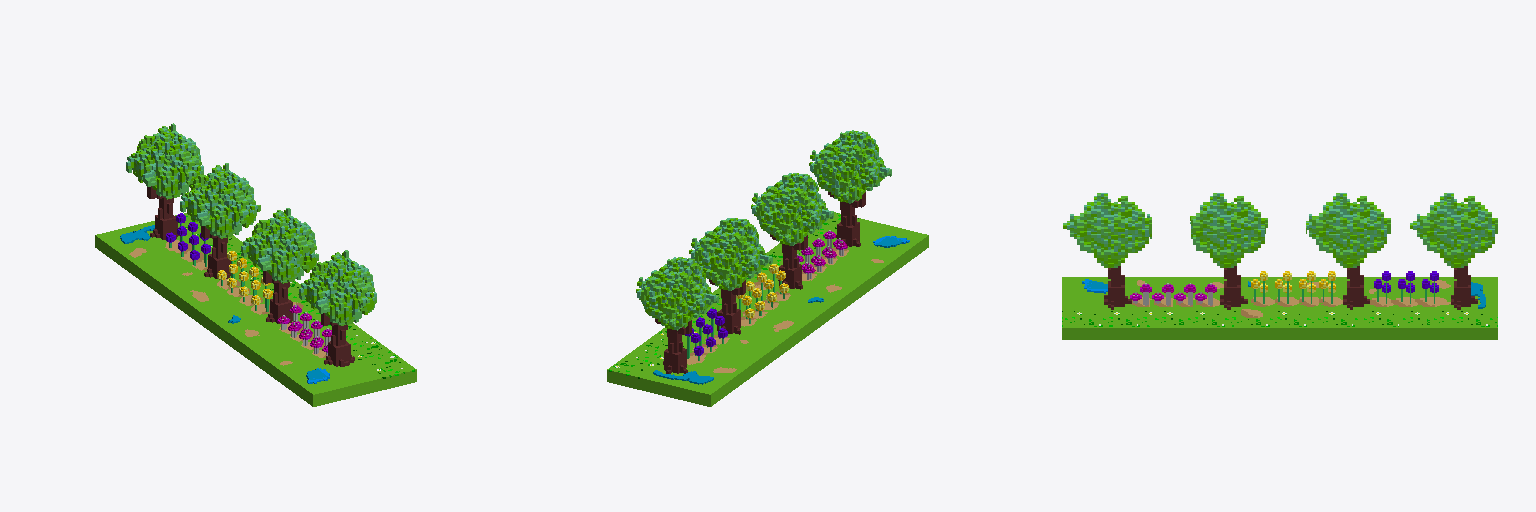
3 renders of one model, left to right at view 1: azimuth 30°, elevation 25°; view 2: azimuth 150°, elevation 25°; view 3: azimuth 270°, elevation 25°, orthographic.
Visible parts, largest first — view 1: Model; view 2: Model; view 3: Model.
Boxes of the visible parts, <box> form: Model: <box>95,123,416,406</box>; Model: <box>607,130,928,406</box>; Model: <box>1062,193,1497,339</box>.
Size of the model in its own units: 8.75 by 9.5 by 32.
1 materials, 1 textured.